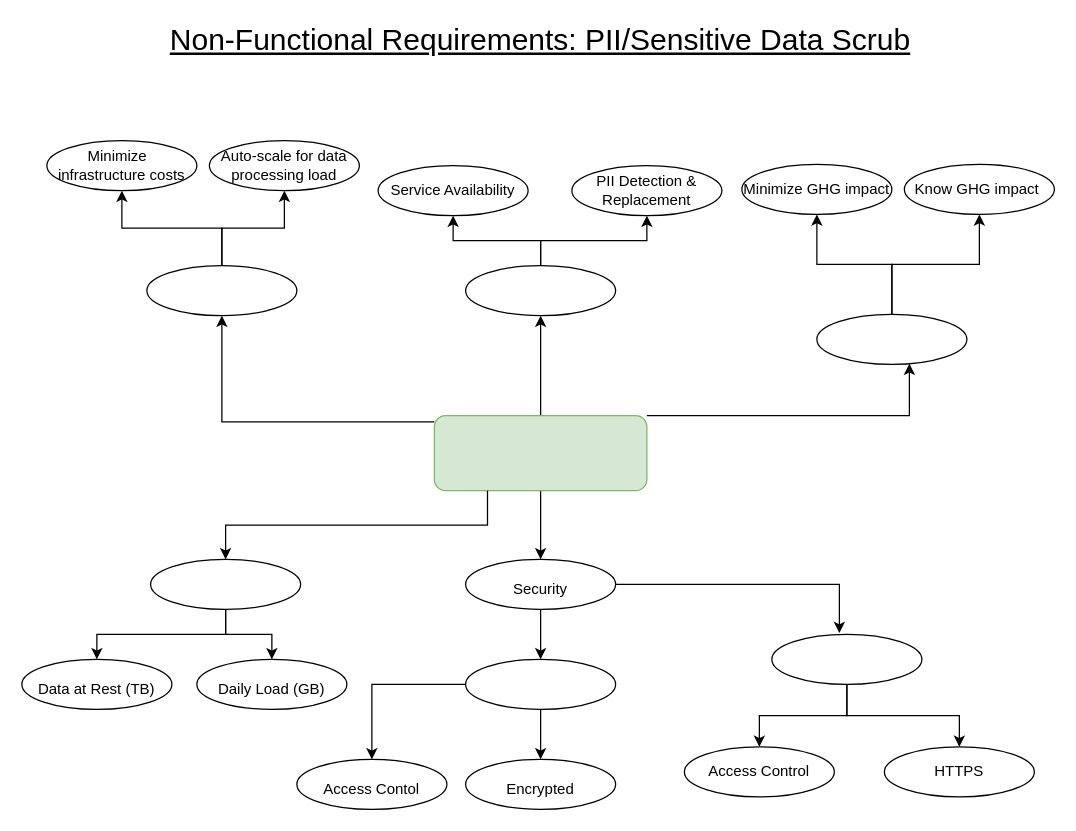
The diagram is 1076 pixels wide and 831 high, and some of its shapes have lost their labels. Each missing label, with the centre of its shape:
Data at Rest: (540,683)
interfaces for service I/O: (846,658)
Performance Efficiency: (221,290)
PII/Sensitive Data Scrub: (540,452)
Reliability: (540,290)
Scalability: (225,583)
Sustainability: (891,338)
